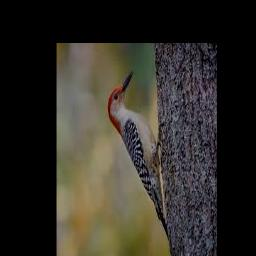Woodpecker: (107, 71, 169, 240)
